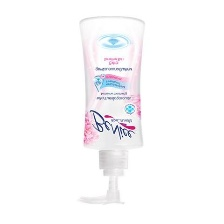cleaning_solution: (70, 12, 149, 208)
